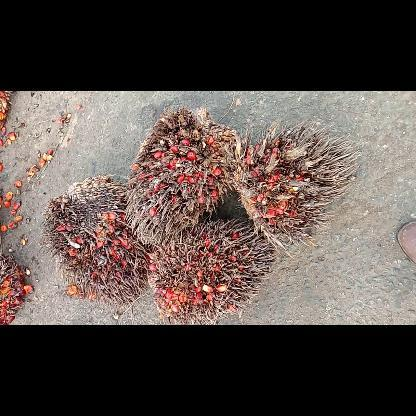Terlalu masak: (229, 118, 365, 262), (120, 104, 250, 252), (36, 171, 156, 313), (144, 216, 280, 324)
